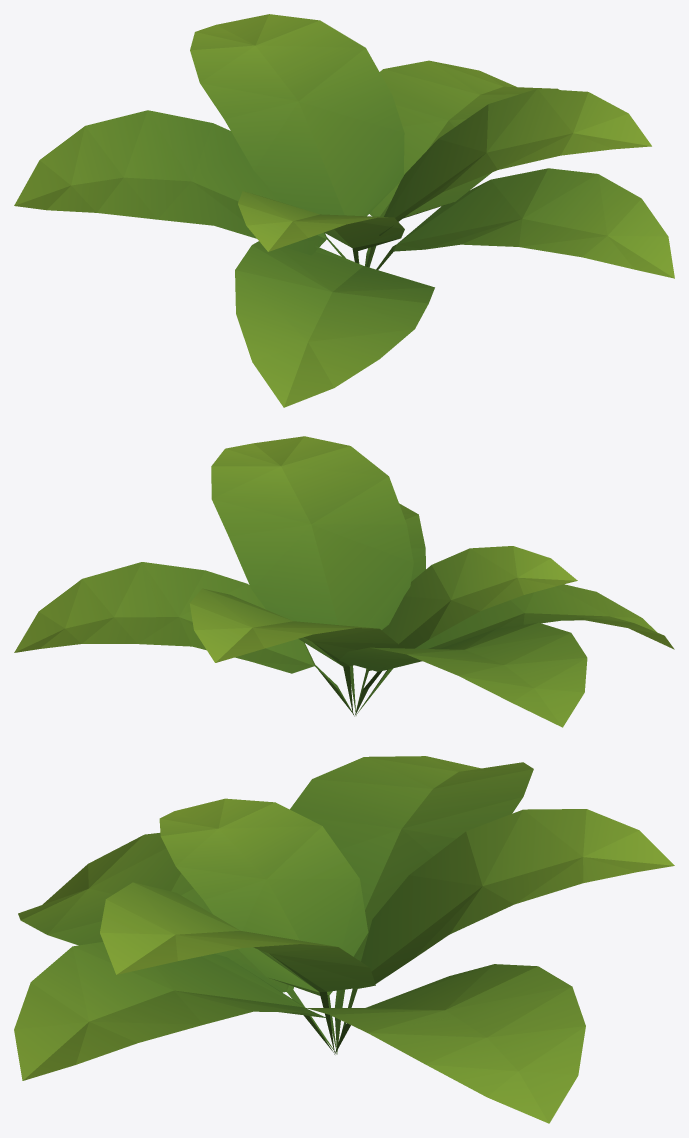
Rendered from Plant_01.glb.
3 views of the same model, one above another, from view 1: azimuth 30°, elevation 25°; view 2: azimuth 150°, elevation 25°; view 3: azimuth 270°, elevation 25° (orthographic). The views are drawn at different scales.
Visible parts, largest first — view 1: Plant_01; view 2: Plant_01; view 3: Plant_01.
Boxes of the visible parts, x1=… form: Plant_01: x1=14, y1=14, x2=674, y2=407; Plant_01: x1=14, y1=436, x2=674, y2=727; Plant_01: x1=14, y1=756, x2=674, y2=1123.
Bounding box in the file's own units: 1.16 × 0.3757 × 1.04.
Materials: 1 (1 with a texture image).
